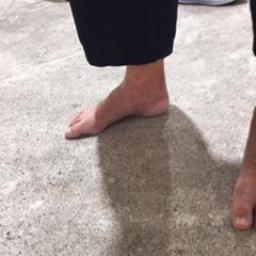Medial View -Right Foot-: (57, 59, 180, 144)
